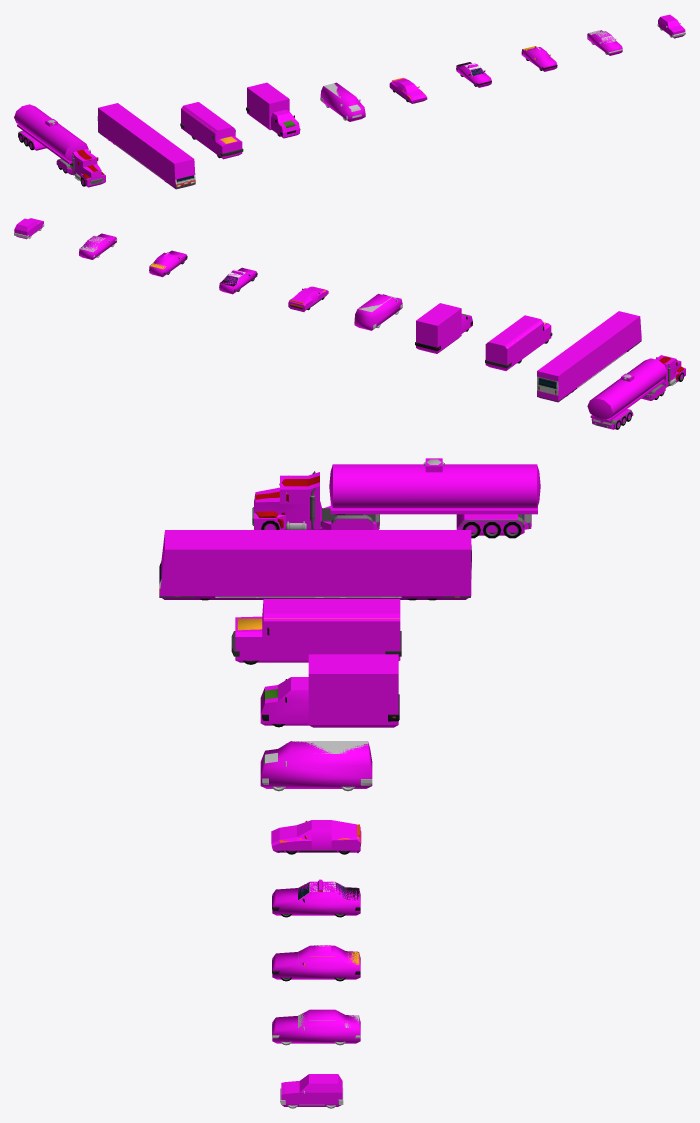
File: Traffic.FBX
3 renders of one model, top to bottom at view 1: azimuth 30°, elevation 25°; view 2: azimuth 150°, elevation 25°; view 3: azimuth 270°, elevation 25°, orthographic. The views are drawn at different scales.
Visible parts, largest first — view 1: TrafficBusProxy, TrafficSchoolBusProxy, TrafficDeliveryTruckProxy, TrafficTruckTrailerGasTankProxy, TrafficVanProxy, TrafficTruckProxy, TrafficSportsCarProxy, TrafficTaxiProxy, TrafficSedanProxy, TrafficPoliceProxy, TrafficTruck, TrafficHatchbackProxy (+2 smaller); view 2: TrafficBusProxy, TrafficTruckTrailerGasTankProxy, TrafficSchoolBusProxy, TrafficDeliveryTruckProxy, TrafficVanProxy, TrafficSedanProxy, TrafficTaxiProxy, TrafficPoliceProxy, TrafficSportsCarProxy, TrafficTruckTrailerProxy, TrafficTruckProxy, TrafficBus (+1 smaller); view 3: TrafficBusProxy, TrafficTruckTrailerGasTankProxy, TrafficSchoolBusProxy, TrafficDeliveryTruckProxy, TrafficVanProxy, TrafficTruckProxy, TrafficTaxiProxy, TrafficSedanProxy, TrafficPoliceProxy, TrafficSportsCarProxy, TrafficTruckTrailerProxy, TrafficHatchbackProxy (+1 smaller).
Boxes of the visible parts, <box> form: TrafficBusProxy: <box>98,103,195,189</box>; TrafficSchoolBusProxy: <box>181,102,242,159</box>; TrafficDeliveryTruckProxy: <box>247,82,299,138</box>; TrafficTruckTrailerGasTankProxy: <box>14,104,88,161</box>; TrafficVanProxy: <box>320,82,365,121</box>; TrafficTruckProxy: <box>56,149,105,187</box>; TrafficSportsCarProxy: <box>389,78,427,103</box>; TrafficTaxiProxy: <box>521,46,557,71</box>; TrafficSedanProxy: <box>587,30,622,55</box>; TrafficPoliceProxy: <box>456,62,491,87</box>; TrafficTruck: <box>57,150,104,184</box>; TrafficHatchbackProxy: <box>658,14,685,38</box>; TrafficBusProxy: <box>537,311,641,402</box>; TrafficTruckTrailerGasTankProxy: <box>587,358,667,419</box>; TrafficSchoolBusProxy: <box>485,315,551,370</box>; TrafficDeliveryTruckProxy: <box>416,303,472,353</box>; TrafficVanProxy: <box>354,293,402,330</box>; TrafficSedanProxy: <box>79,233,116,259</box>; TrafficTaxiProxy: <box>149,250,187,277</box>; TrafficPoliceProxy: <box>219,267,257,294</box>; TrafficSportsCarProxy: <box>288,286,328,311</box>; TrafficTruckTrailerProxy: <box>590,379,664,429</box>; TrafficTruckProxy: <box>641,355,685,400</box>; TrafficBus: <box>537,333,641,401</box>; TrafficBusProxy: <box>159,530,471,599</box>; TrafficTruckTrailerGasTankProxy: <box>329,458,540,508</box>; TrafficSchoolBusProxy: <box>235,599,400,662</box>; TrafficDeliveryTruckProxy: <box>260,654,398,727</box>; TrafficVanProxy: <box>260,741,372,788</box>; TrafficTruckProxy: <box>254,472,379,529</box>; TrafficTaxiProxy: <box>272,945,360,979</box>; TrafficSedanProxy: <box>272,1009,360,1043</box>; TrafficPoliceProxy: <box>272,879,360,915</box>; TrafficSportsCarProxy: <box>271,820,360,853</box>; TrafficTruckTrailerProxy: <box>330,502,537,535</box>; TrafficHatchbackProxy: <box>281,1074,342,1106</box>.
Size of the model in its own units: 92.95 by 4.86 by 25.22.
